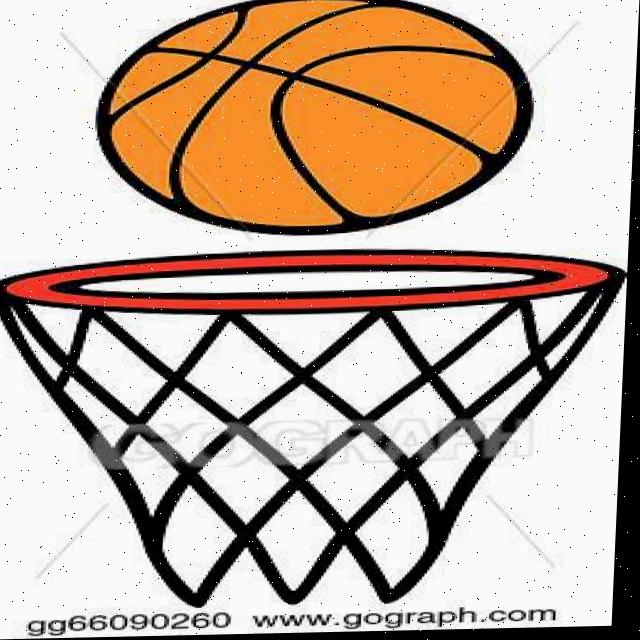basketball: (90, 0, 539, 239)
hoop: (0, 243, 628, 613)
